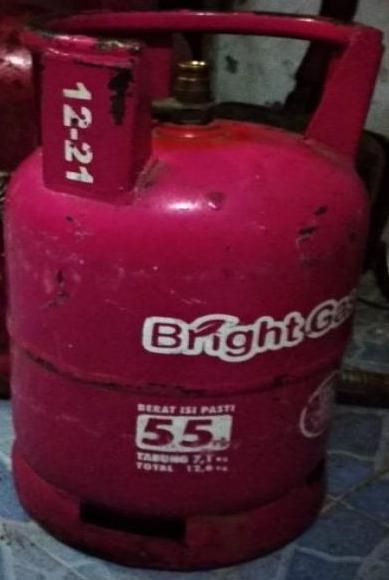cylinder: (1, 1, 389, 580)
